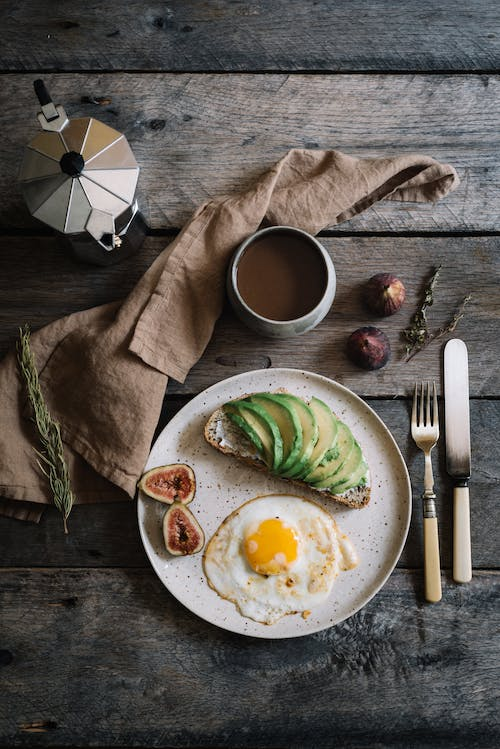knife: (440, 334, 474, 583)
